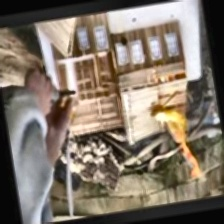fire: (154, 106, 201, 181)
